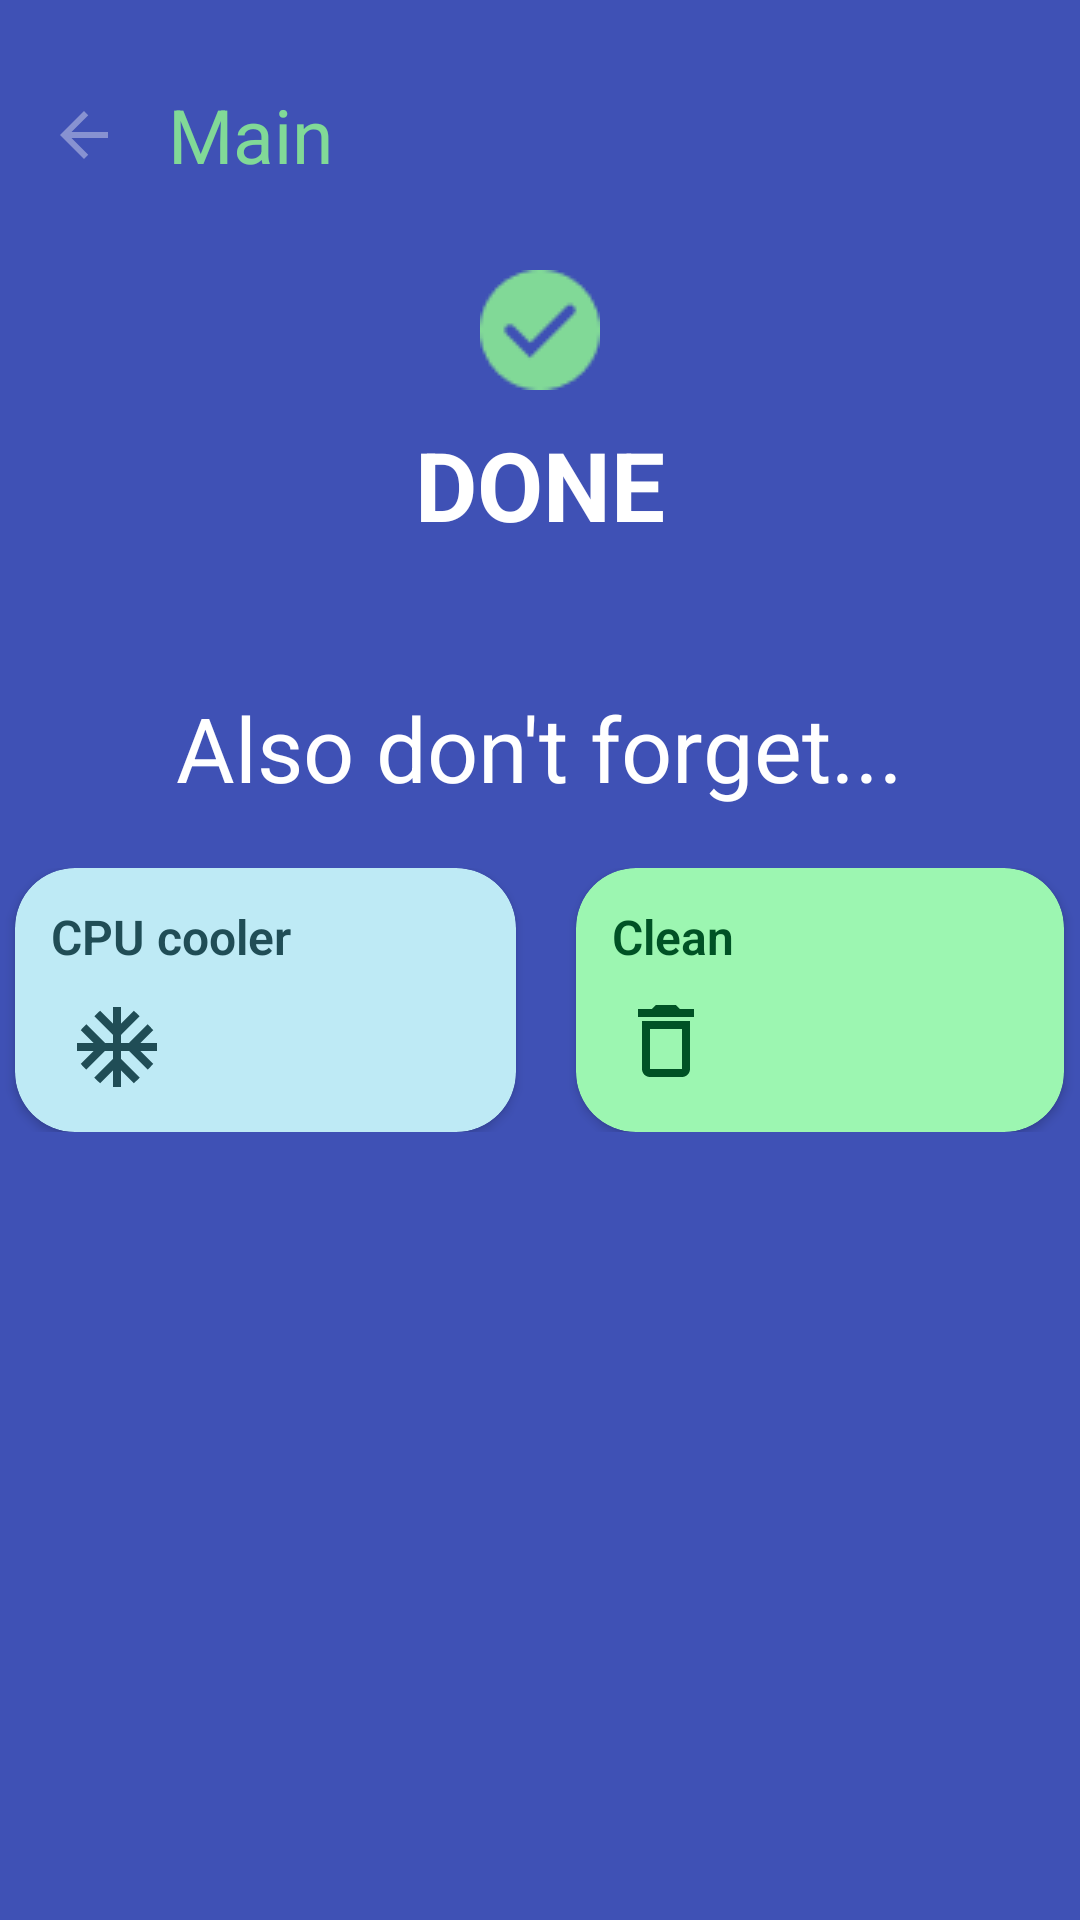

Icon click points for this 1080 x 1920 phone screenshot, format (x,y):
back: (84,135)
